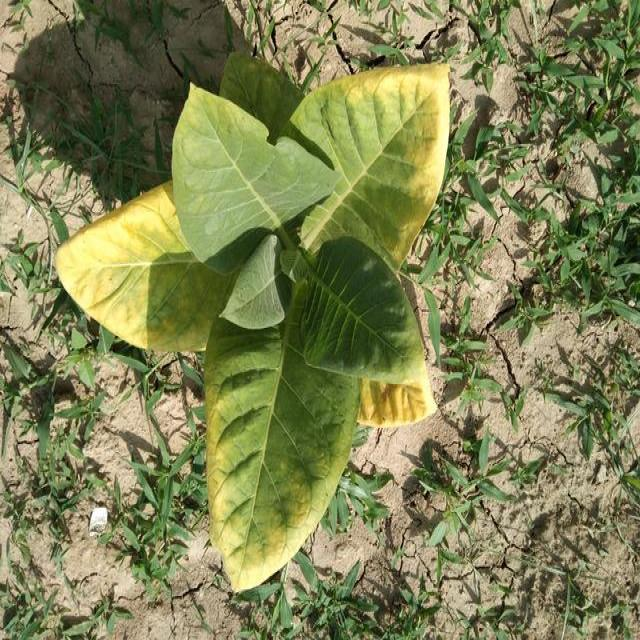crop: (55, 47, 456, 612)
